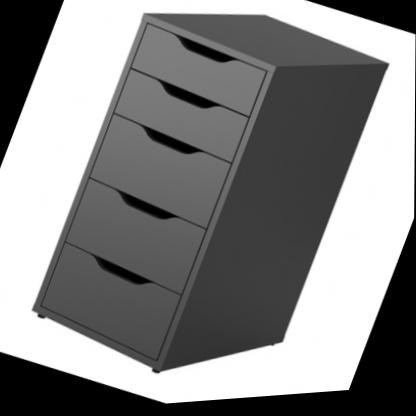Cabinet: (18, 0, 398, 415)
